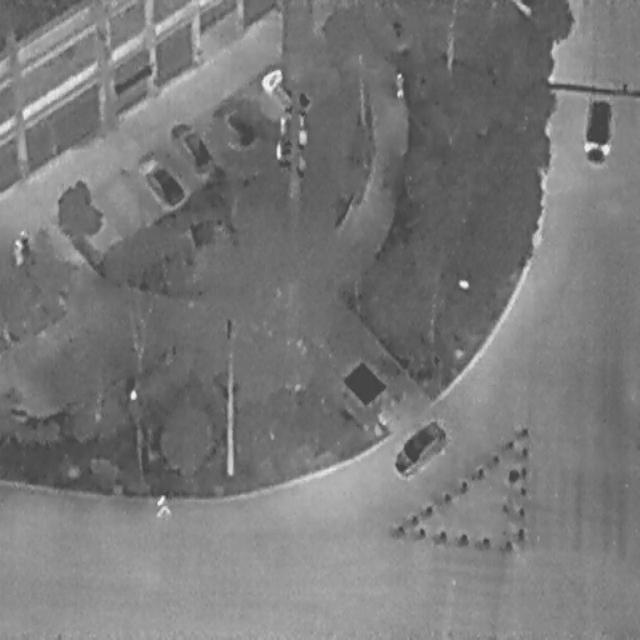Car: (387, 408, 453, 487), (253, 52, 313, 126), (205, 86, 262, 159), (163, 105, 218, 180), (134, 142, 187, 214), (579, 92, 615, 166)
Person: (15, 225, 32, 257), (11, 234, 23, 268), (155, 492, 170, 518), (393, 68, 404, 98)
